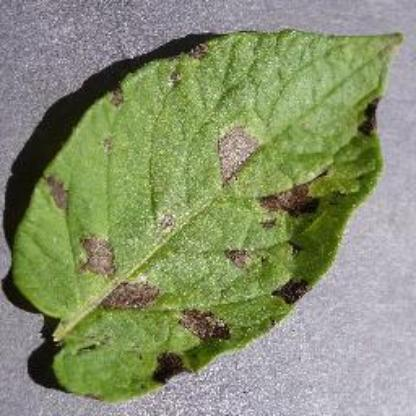Early-Blight: (9, 31, 404, 404)
